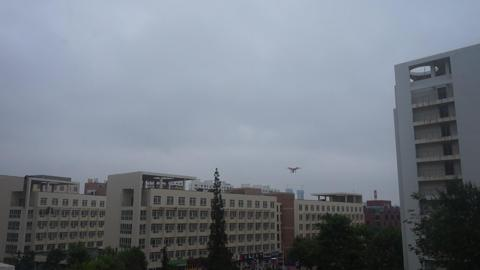UAV: (286, 167, 302, 174)
